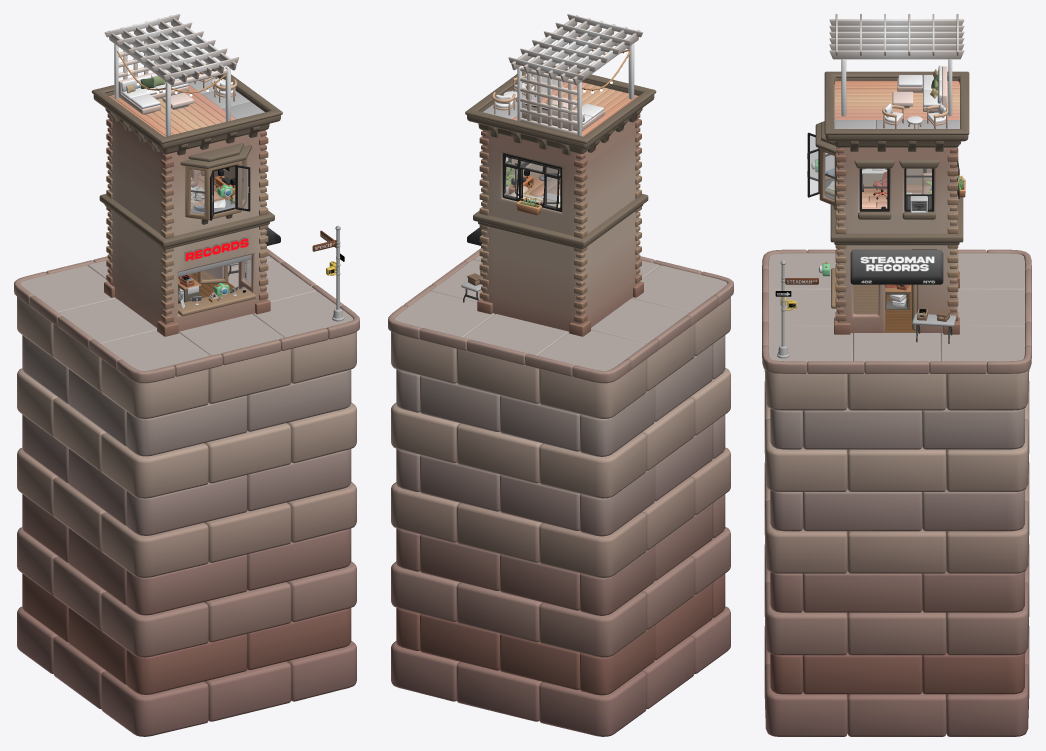
The model's file is apartment-baked.glb.
The picture shows the model from 3 angles, left to right: view 1: azimuth 30°, elevation 25°; view 2: azimuth 150°, elevation 25°; view 3: azimuth 270°, elevation 25°; orthographic projection. The views are drawn at different scales.
Parts seen in each view (by area): view 1: Cube.053, Cube.054, body, Plane.016, Cube.111, Cube.018, Cube.028, Cube.030, shop floor.001, Cube.016, Cube.021, Cube.017 (+8 smaller); view 2: Cube.053, Cube.054, body, Plane.016, Cube.111, Cube.018, Cube.028, Cube.030, Cube.021, Cube.016, Cube.017, Cube.027 (+4 smaller); view 3: Cube.053, Cube.054, Plane.016, body, Cube.111, Cube.028, shop, Cube.018, shop floor.001, Cube.021, Cube.016, Cube.017 (+12 smaller).
Part boxes in pixels (left/top/right/bottom): Cube.053: left=17, top=297, right=356, bottom=736; Cube.054: left=22, top=335, right=351, bottom=694; body: left=109, top=119, right=265, bottom=331; Plane.016: left=20, top=255, right=353, bottom=370; Cube.111: left=14, top=248, right=359, bottom=383; Cube.018: left=104, top=113, right=270, bottom=336; Cube.028: left=108, top=15, right=236, bottom=85; Cube.030: left=104, top=14, right=239, bottom=80; shop floor.001: left=109, top=85, right=235, bottom=136; Cube.016: left=99, top=194, right=274, bottom=249; Cube.021: left=91, top=65, right=282, bottom=143; Cube.017: left=93, top=70, right=280, bottom=154; Cube.053: left=391, top=297, right=730, bottom=736; Cube.054: left=396, top=335, right=725, bottom=695; body: left=482, top=118, right=638, bottom=331; Plane.016: left=394, top=255, right=727, bottom=370; Cube.111: left=388, top=248, right=733, bottom=383; Cube.018: left=477, top=113, right=643, bottom=336; Cube.028: left=511, top=15, right=640, bottom=85; Cube.030: left=508, top=14, right=642, bottom=80; Cube.021: left=465, top=62, right=656, bottom=143; Cube.016: left=473, top=194, right=648, bottom=249; Cube.017: left=467, top=69, right=654, bottom=153; Cube.027: left=520, top=67, right=577, bottom=134; Cube.053: left=764, top=369, right=1029, bottom=736; Cube.054: left=770, top=407, right=1024, bottom=694; Plane.016: left=768, top=253, right=1025, bottom=363; body: left=837, top=147, right=956, bottom=333; Cube.111: left=762, top=249, right=1031, bottom=373; Cube.028: left=829, top=19, right=964, bottom=59; shop: left=850, top=249, right=943, bottom=284; Cube.018: left=834, top=147, right=959, bottom=334; shop floor.001: left=834, top=81, right=959, bottom=120; Cube.021: left=824, top=71, right=969, bottom=134; Cube.016: left=830, top=197, right=963, bottom=245; Cube.017: left=825, top=77, right=968, bottom=147.
Size of the model in its own units: 28.62 by 74.83 by 28.47.
237 materials, 52 textured.
